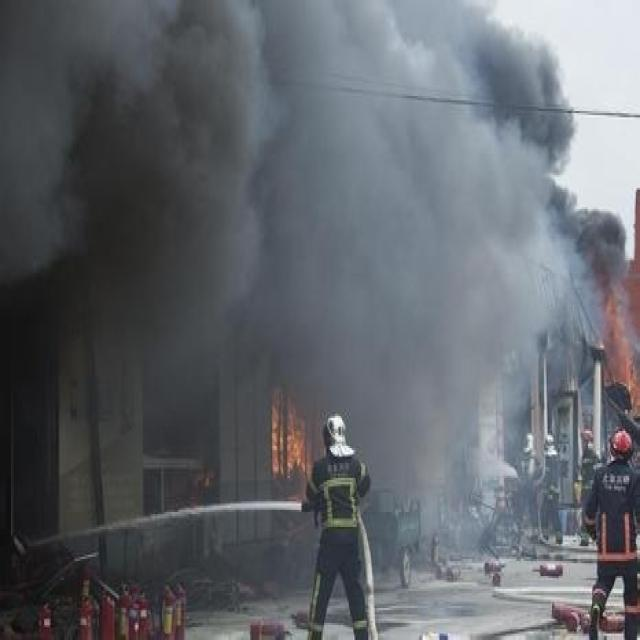Fire: (270, 408, 306, 476)
Smoke: (1, 2, 639, 555)
